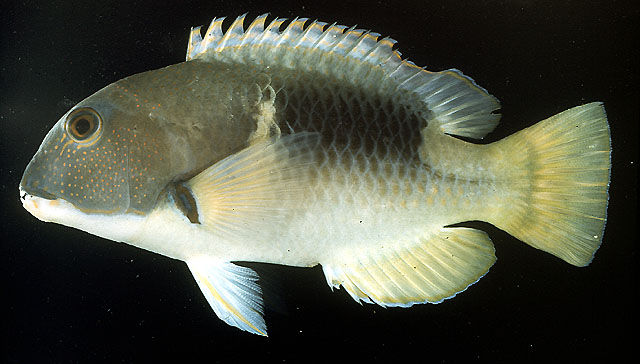fish: (20, 13, 614, 339)
